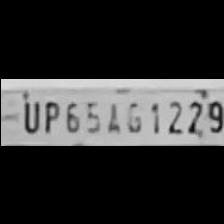1: (144, 96, 162, 134)
2: (162, 96, 182, 134), (182, 96, 202, 134)
5: (82, 96, 100, 134)
6: (60, 96, 80, 134)
9: (202, 96, 222, 134)
A: (101, 96, 121, 134)
G: (122, 96, 142, 134)
P: (40, 96, 60, 134)
U: (17, 94, 39, 132)
